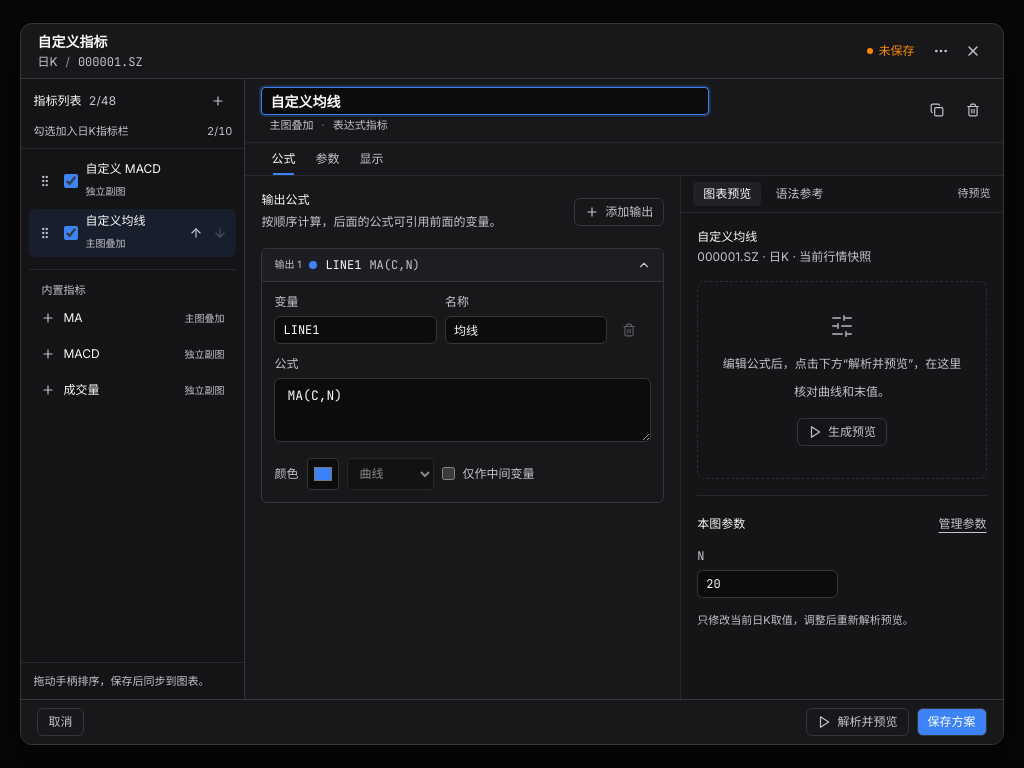
Test case: keeps the reordered draft after a save conflict and disables sorting while saving
Earlier steps of the test are not shown.
Later steps or results of the test are not shown.
What coordinates should you click on to do the following:
click the button "保存方案"
I would click on:
 (952, 722)
Its box is [916,708,986,736].
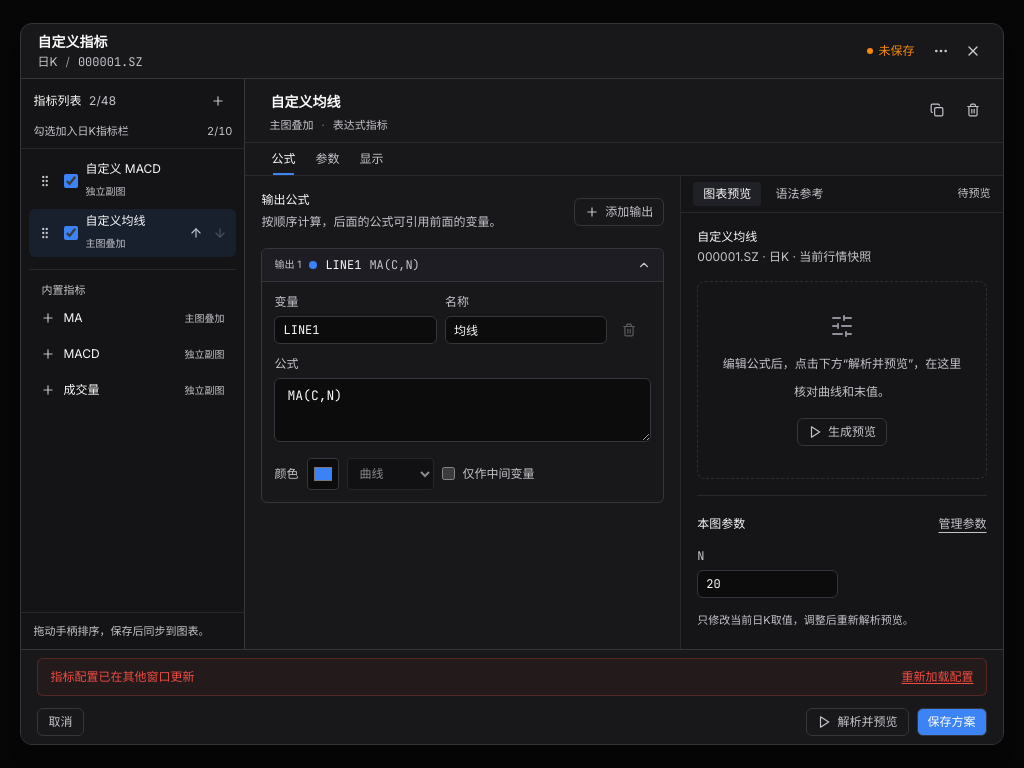
Check: the message "指标配置已在其他窗口更新 重新加载配置" is shown, box [38,658,986,696]
